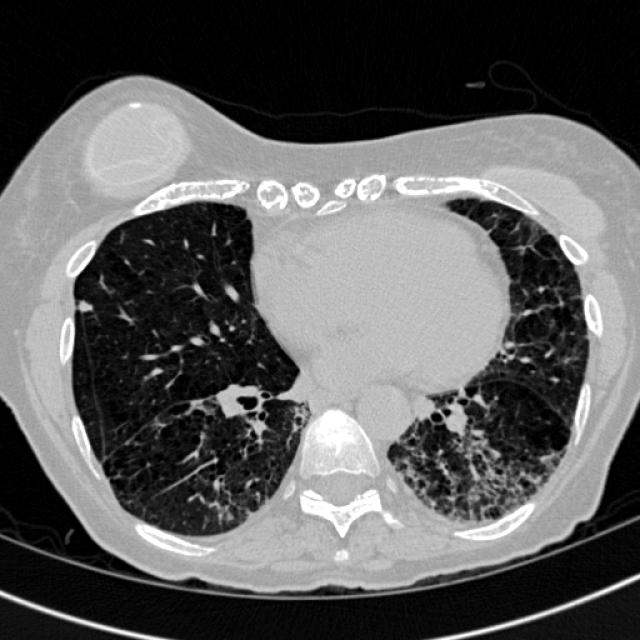nodule: (69, 291, 99, 321)
